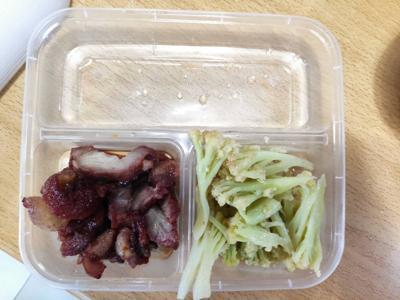r1: (31, 140, 186, 282)
